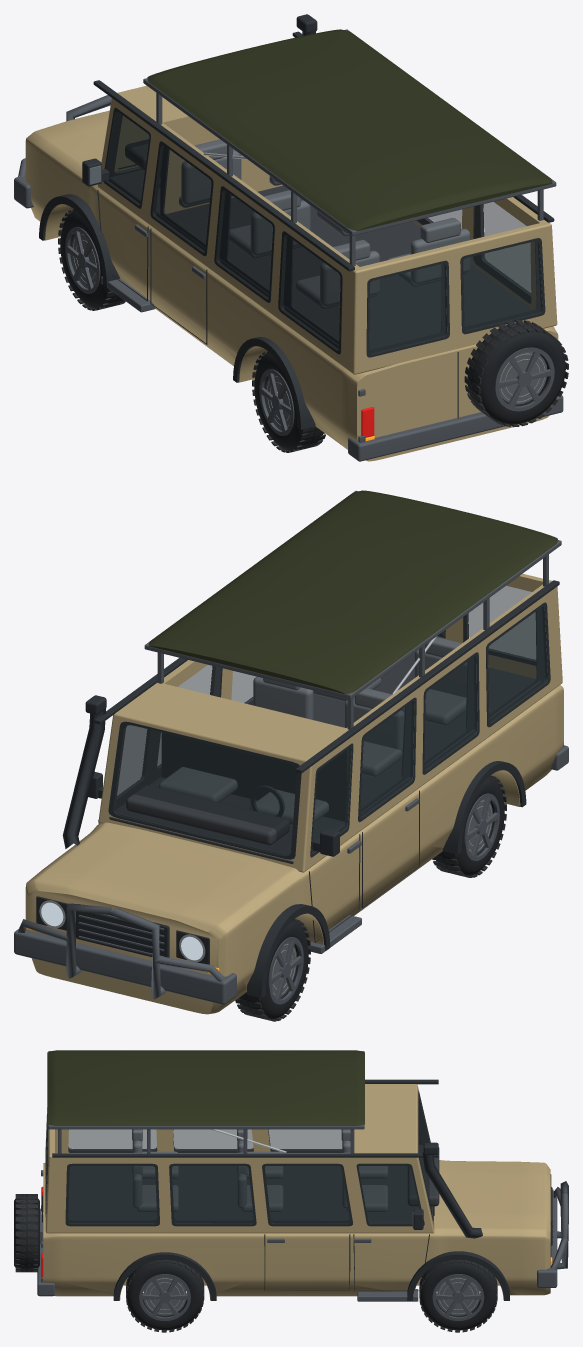
The model's file is amboseli-safari.glb.
3 renders of one model, top to bottom at view 1: azimuth 30°, elevation 25°; view 2: azimuth 150°, elevation 25°; view 3: azimuth 270°, elevation 25°, orthographic. The views are drawn at different scales.
Parts seen in each view (by area): view 1: Body geometry, Running wheel geometry.002, Running wheel geometry; view 2: Body geometry, Running wheel geometry, Running wheel geometry.002; view 3: Body geometry, Running wheel geometry.001, Running wheel geometry.003.
Boxes of the visible parts, x1=… form: Body geometry: x1=14, y1=14, x2=568, y2=461; Running wheel geometry.002: x1=252, y1=351, x2=325, y2=452; Running wheel geometry: x1=58, y1=209, x2=125, y2=310; Body geometry: x1=14, y1=490, x2=568, y2=1014; Running wheel geometry: x1=235, y1=919, x2=310, y2=1021; Running wheel geometry.002: x1=432, y1=775, x2=506, y2=877; Body geometry: x1=14, y1=1050, x2=568, y2=1301; Running wheel geometry.001: x1=419, y1=1260, x2=497, y2=1332; Running wheel geometry.003: x1=126, y1=1260, x2=204, y2=1332.
Size of the model in its own units: 1.56 by 1.69 by 3.97.
